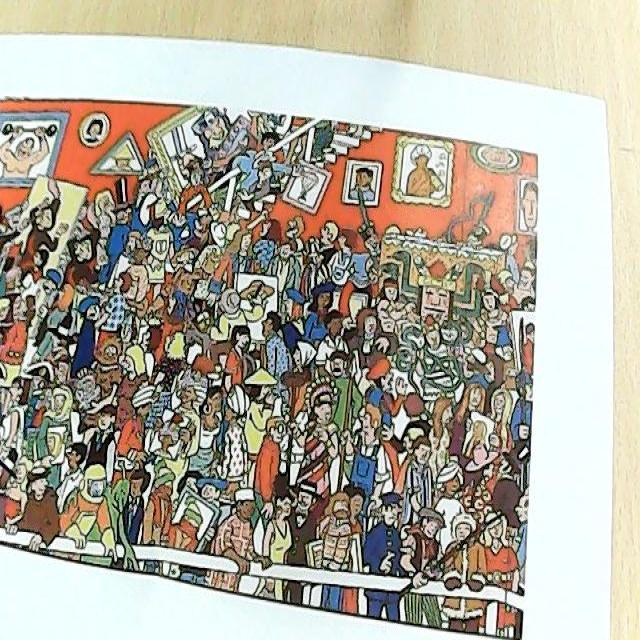waldo: (51, 346, 71, 383)
